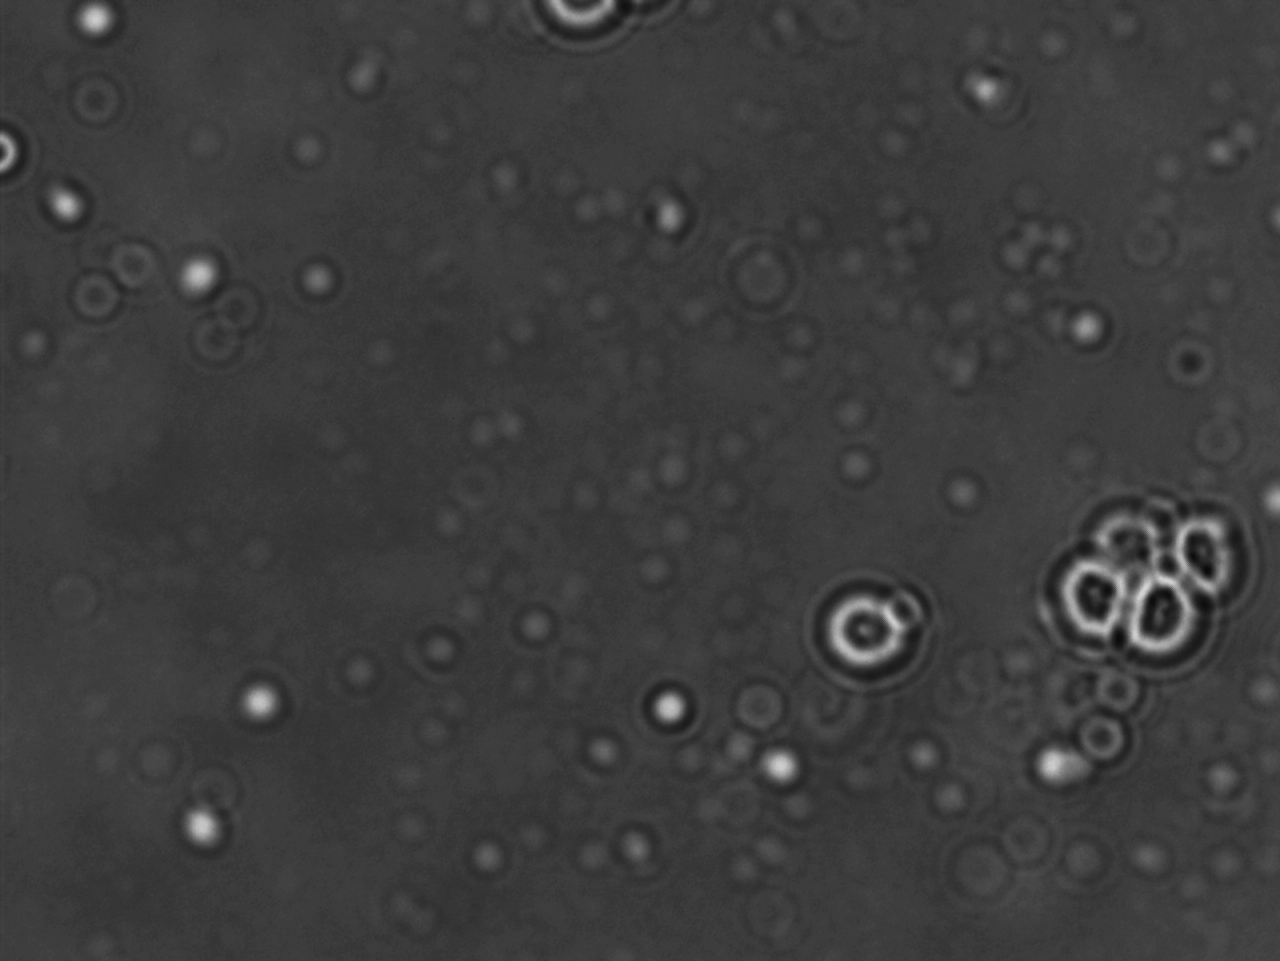depth:8: (789, 557, 928, 691), (1039, 536, 1149, 657), (1121, 562, 1233, 679)
